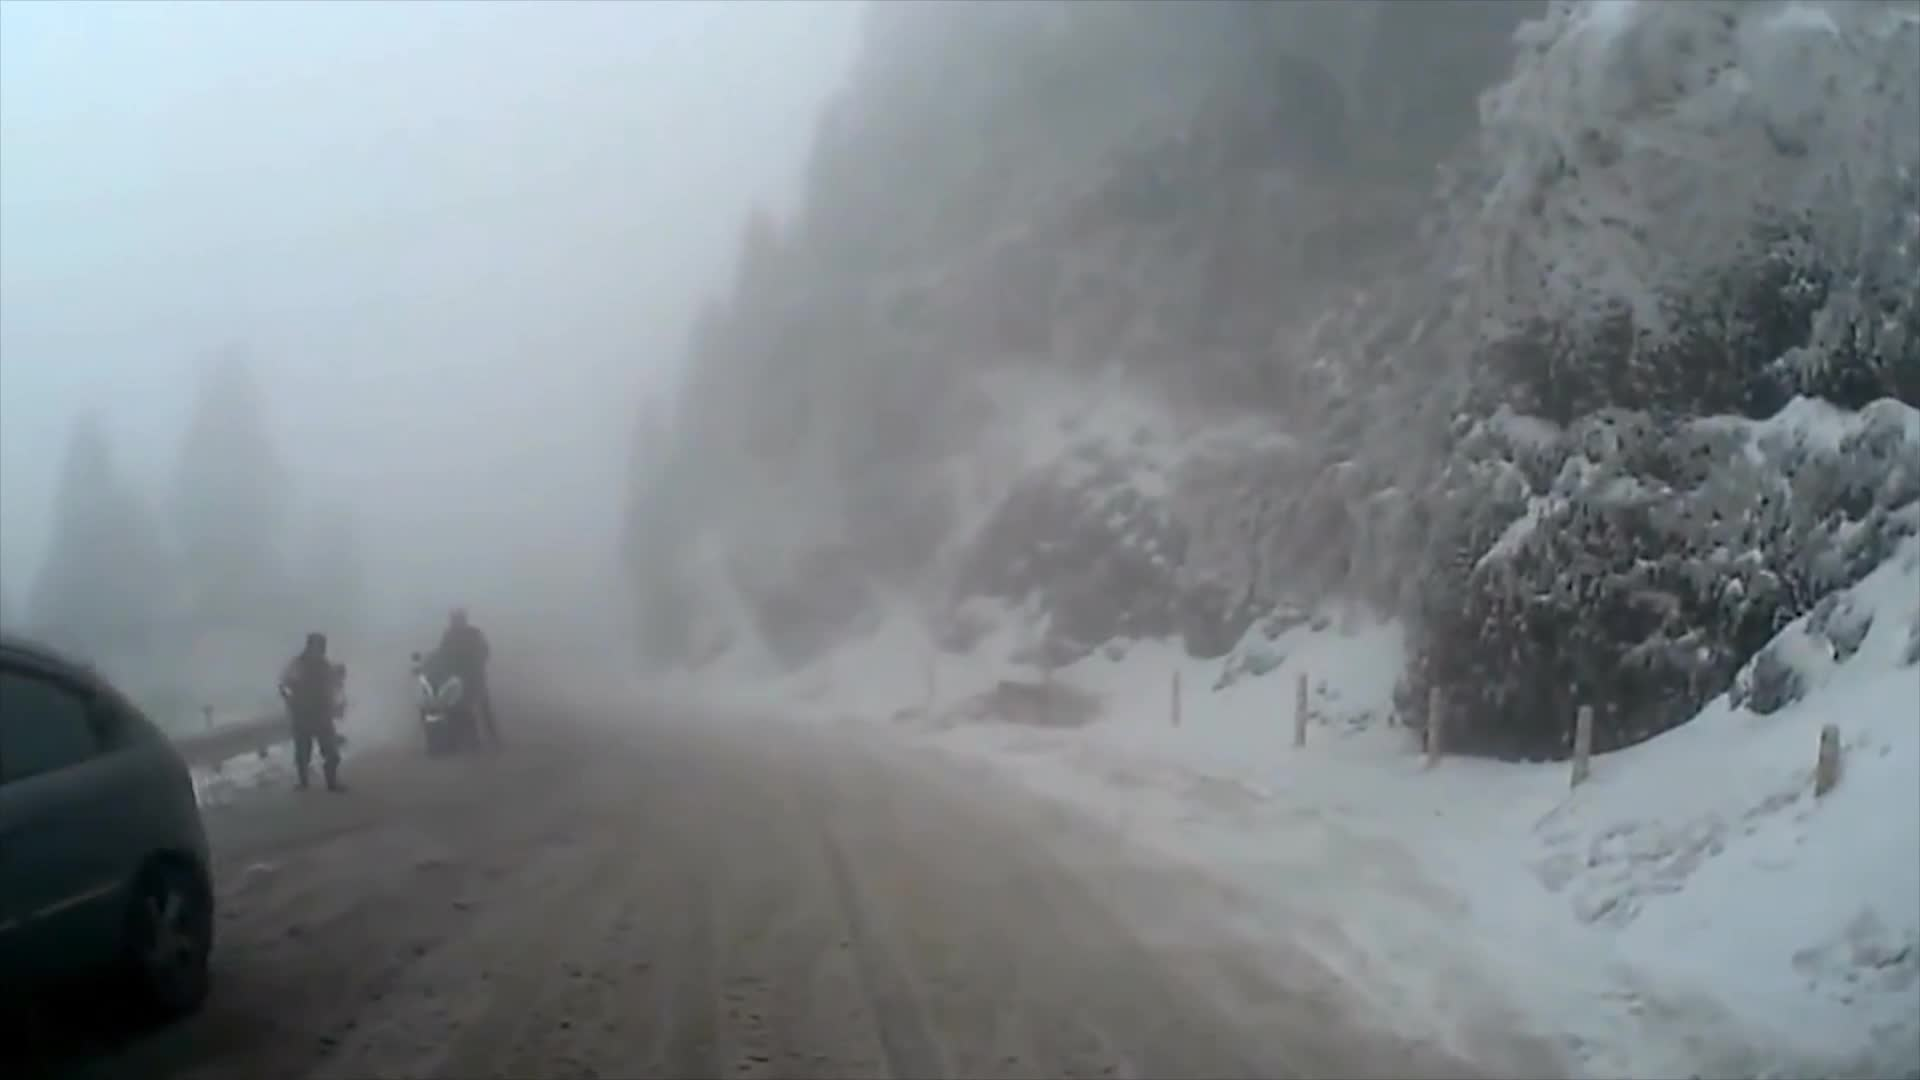pedestrian: (280, 631, 353, 794), (428, 601, 506, 750)
vehicle: (0, 630, 218, 1080)
